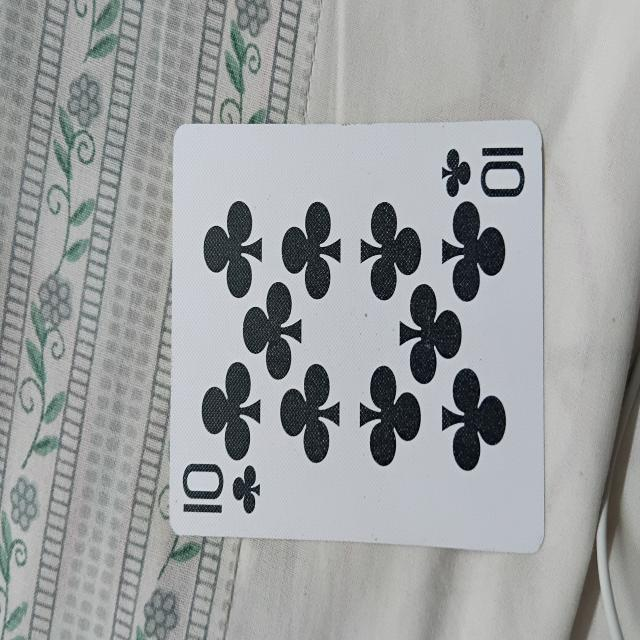10C: (171, 120, 544, 557)
